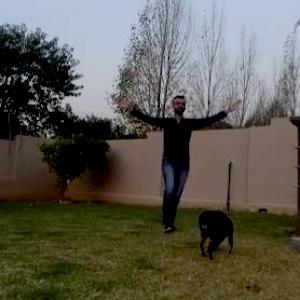takeoff: (120, 76, 250, 242)
